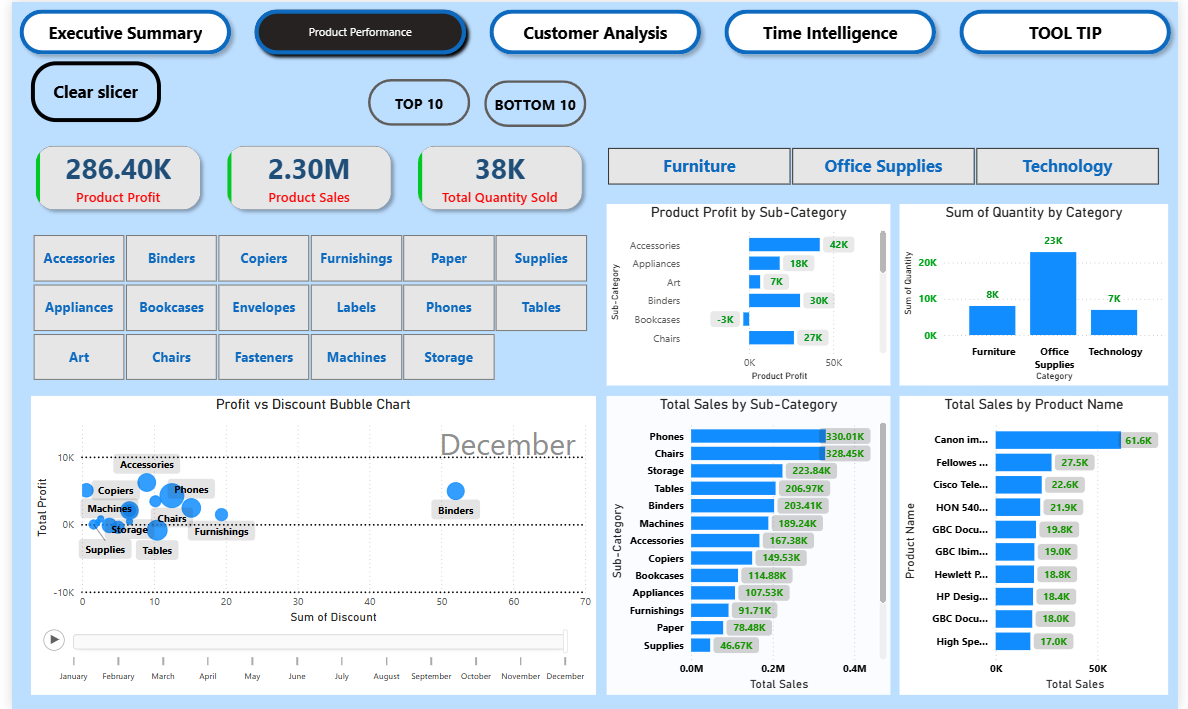

What the dashboard file says about the page in this screenshot:
{"tool":"powerbi","page":{"name":"Product Performance","canvas":[1400,850],"ordinal":1},"visuals":[{"type":"barChart","fields":{"Category":["Superstore.Product Name"],"Y":["Superstore.Total Sales"]},"box":[1065.2,472.7,322.7,359.1],"z":0},{"type":"scatterChart","title":"Profit vs Discount Bubble Chart","fields":{"X":["Sum(Superstore.Discount)"],"Size":["Superstore.Total Sales"],"Y":["Superstore.Total Profit"],"Category":["Superstore.Sub-Category"],"Play":["Date Table.Date.Variation.Date Hierarchy.Month"]},"box":[22.7,472.7,677.3,359.1],"z":1000},{"type":"barChart","fields":{"Category":["Superstore.Sub-Category"],"Y":["Superstore.Total Sales"]},"box":[713.6,472.7,340.9,359.1],"z":2000},{"type":"slicer","fields":{"Values":["Superstore.Category"]},"box":[689.4,168.2,710.6,57.6],"z":3000},{"type":"slicer","fields":{"Values":["Superstore.Sub-Category"]},"box":[0,272.7,713.6,187.9],"z":4000},{"type":"pageNavigator","box":[0,0,1400,72.7],"z":6000},{"type":"actionButton","box":[22.7,71.2,156.1,72.7],"z":10000},{"type":"cardVisual","fields":{"Data":["Superstore.Product Profit","Superstore.Product Sales","Superstore.Total Quantity Sold"]},"box":[0,143.9,713.6,134.8],"z":11000},{"type":"columnChart","fields":{"Category":["Superstore.Category"],"Y":["Sum(Superstore.Quantity)"]},"box":[1065.2,242.4,322.7,218.2],"z":12000},{"type":"barChart","fields":{"Y":["Superstore.Product Profit"],"Category":["Superstore.Sub-Category"]},"box":[713.6,242.4,340.9,218.2],"z":13000},{"type":"actionButton","title":"TOP 5","box":[427.3,92.4,122.7,56.1],"z":14000},{"type":"actionButton","title":"TOP 5","box":[566.7,93.9,122.7,56.1],"z":15000}]}

Visuals, with their boxes in screenshot pixels (x1, y1, x2, y2), scaled from the page's 1400x850 canvas onto the 1188x709 screenshot:
barChart - Superstore.Product Name x Superstore.Total Sales: bbox(904, 394, 1178, 694)
"Profit vs Discount Bubble Chart" scatterChart: bbox(19, 394, 594, 694)
barChart - Superstore.Sub-Category x Superstore.Total Sales: bbox(606, 394, 895, 694)
slicer - Superstore.Category: bbox(585, 140, 1187, 188)
slicer - Superstore.Sub-Category: bbox(0, 227, 606, 384)
pageNavigator: bbox(0, 0, 1187, 61)
actionButton: bbox(19, 59, 152, 120)
cardVisual - Superstore.Product Profit x Superstore.Product Sales: bbox(0, 120, 606, 232)
columnChart - Superstore.Category x Sum(Superstore.Quantity): bbox(904, 202, 1178, 384)
barChart - Superstore.Product Profit x Superstore.Sub-Category: bbox(606, 202, 895, 384)
"TOP 5" actionButton: bbox(363, 77, 467, 124)
"TOP 5" actionButton: bbox(481, 78, 585, 125)
